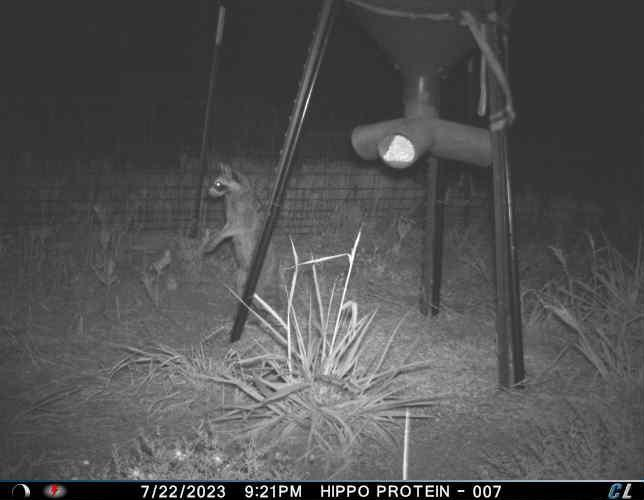Raccoon: (205, 159, 286, 312)
